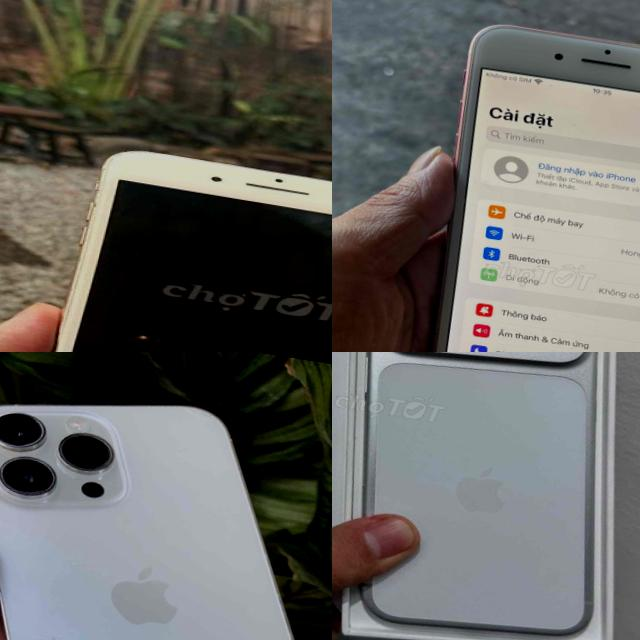gen_14: (0, 361, 332, 640)
gen_17: (332, 352, 640, 640)
gen_7_8: (396, 13, 640, 352), (18, 132, 332, 352)
